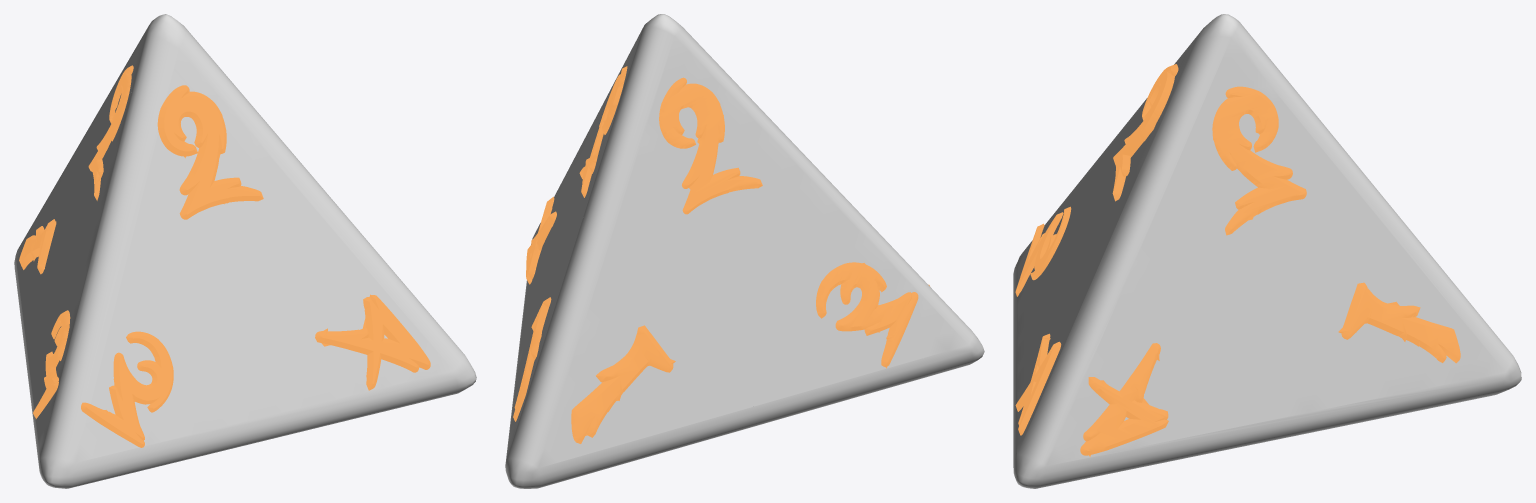
3 views of the same model, side by side, from view 1: azimuth 30°, elevation 25°; view 2: azimuth 150°, elevation 25°; view 3: azimuth 270°, elevation 25° (orthographic). The views are drawn at different scales.
Parts seen in each view (by area): view 1: Cone; view 2: Cone; view 3: Cone.
Part boxes in pixels (x1,y1,x2,y2): Cone: [14, 14, 476, 488]; Cone: [505, 14, 984, 488]; Cone: [1013, 14, 1521, 488].
Bounding box in the file's own units: 1.93 × 1.57 × 1.89.
